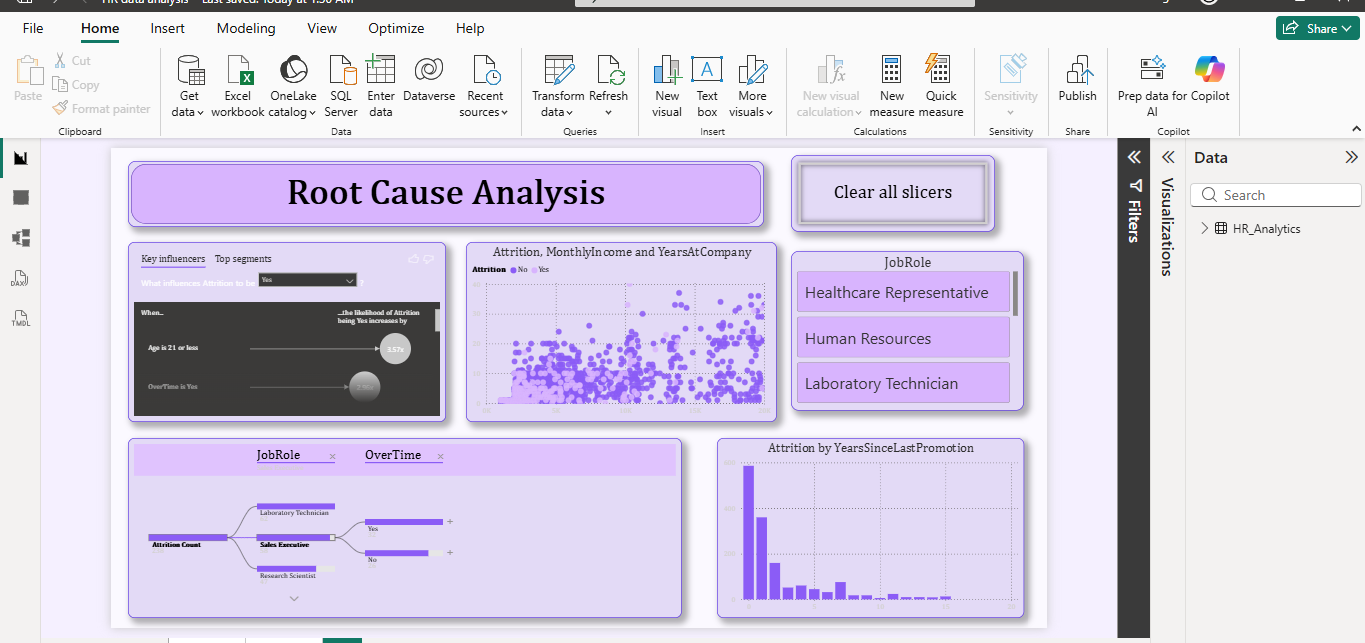

This screenshot's page, from the dashboard's own definition file:
{"tool":"powerbi","page":{"name":"Page 2","canvas":[1560,800],"ordinal":1},"visuals":[{"type":"keyDriversVisual","fields":{"Target":["HR_Analytics.Attrition"],"ExplainBy":["HR_Analytics.Age","HR_Analytics.OverTime","HR_Analytics.JobSatisfaction","HR_Analytics.WorkLifeBalance","HR_Analytics.DistanceFromHome","HR_Analytics.YearsAtCompany","HR_Analytics.YearsInCurrentRole","HR_Analytics.EnvironmentSatisfaction","HR_Analytics.YearsSinceLastPromotion","HR_Analytics.MonthlyIncome"]},"box":[28,156,530,300],"z":0},{"type":"decompositionTreeVisual","fields":{"Analyze":["HR_Analytics.Attrition Count"],"ExplainBy":["HR_Analytics.JobRole","HR_Analytics.OverTime","HR_Analytics.Gender","HR_Analytics.AgeGroup","HR_Analytics.MaritalStatus","HR_Analytics.Department"]},"box":[28.3,483.3,923.3,300],"z":1},{"type":"scatterChart","fields":{"X":["HR_Analytics.MonthlyIncome"],"Y":["HR_Analytics.YearsAtCompany"],"Series":["HR_Analytics.Attrition"]},"box":[592,156,518,300],"z":2},{"type":"clusteredColumnChart","title":"Attrition by YearsSinceLastPromotion","fields":{"Y":["CountNonNull(HR_Analytics.Attrition)"],"Category":["HR_Analytics.YearsSinceLastPromotion"]},"box":[1010,484,512,300],"z":3},{"type":"shape","box":[28,22,1060,110],"z":4},{"type":"advancedSlicerVisual","fields":{"Values":["HR_Analytics.JobRole"]},"box":[1134,172,388,266],"z":5},{"type":"actionButton","box":[1134,12,340,128],"z":6}]}

Visuals, with their boxes on the page's 1560x800 design canvas (x1, y1, x2, y2). These are canvas units, not pixel positions in the 1365x643 screenshot, which may show the page scaled, cropped or inside an application window:
keyDriversVisual - HR_Analytics.Attrition x HR_Analytics.Age: <region>28, 156, 558, 456</region>
decompositionTreeVisual - HR_Analytics.Attrition Count x HR_Analytics.JobRole: <region>28, 483, 952, 783</region>
scatterChart - HR_Analytics.MonthlyIncome x HR_Analytics.YearsAtCompany: <region>592, 156, 1110, 456</region>
"Attrition by YearsSinceLastPromotion" clusteredColumnChart: <region>1010, 484, 1522, 784</region>
shape: <region>28, 22, 1088, 132</region>
advancedSlicerVisual - HR_Analytics.JobRole: <region>1134, 172, 1522, 438</region>
actionButton: <region>1134, 12, 1474, 140</region>
